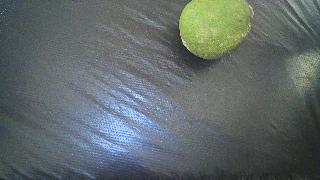DESECHO: (179, 0, 254, 60)
